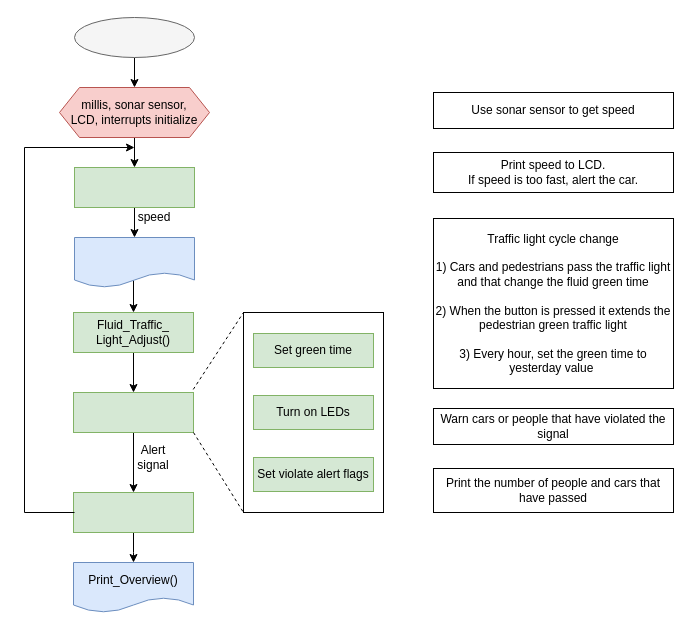
The diagram is 691 pixels wide and 630 high, and some of its shapes have lost their labels. The centre of each missing label's shape, as x and y in pixels:
"Alert System" goes at point 133,512.
"Print speed to LCD" goes at point 134,262.
"Sonar_Get_Speed()" goes at point 134,187.
"Start" goes at point 134,37.
"Traffic_Light_Cycle()" goes at point 133,412.
